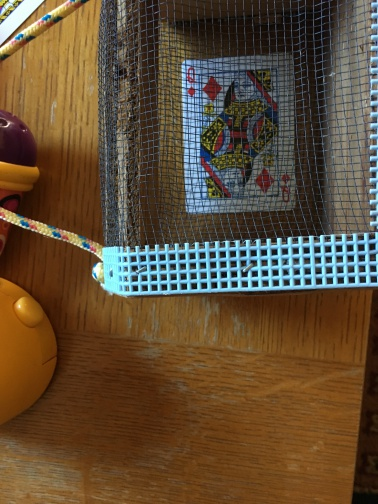queen: (180, 55, 297, 214)
